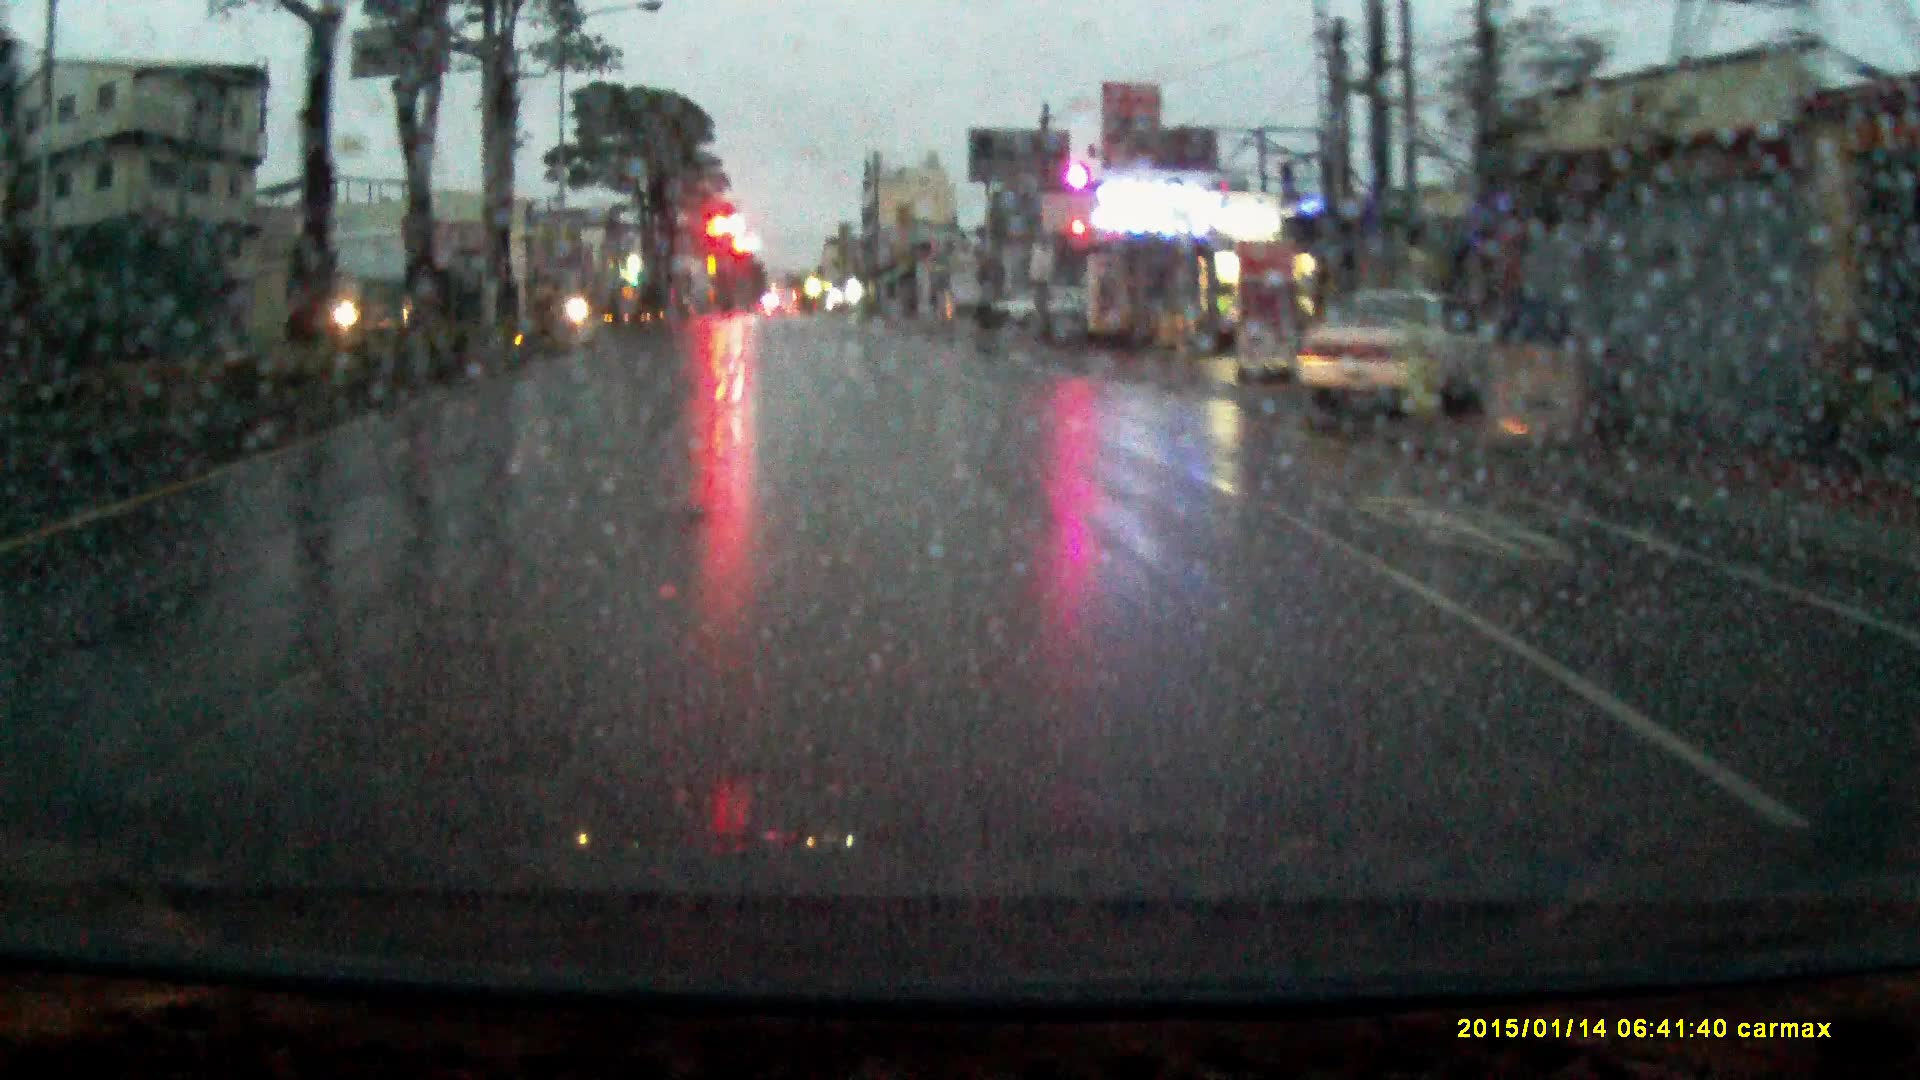vehicle: (1294, 286, 1490, 411), (989, 285, 1075, 328), (555, 291, 600, 323)
